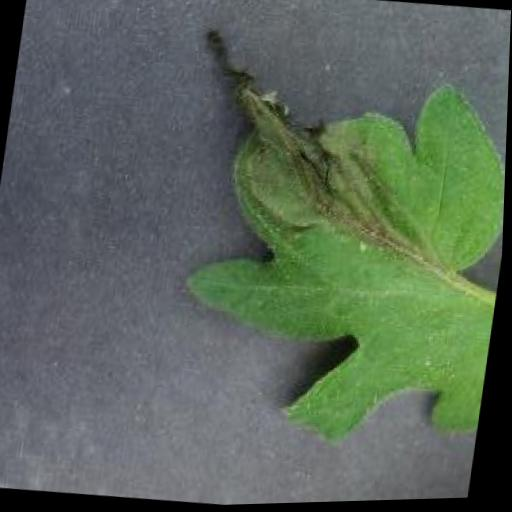Late Blight: (151, 23, 511, 461)
